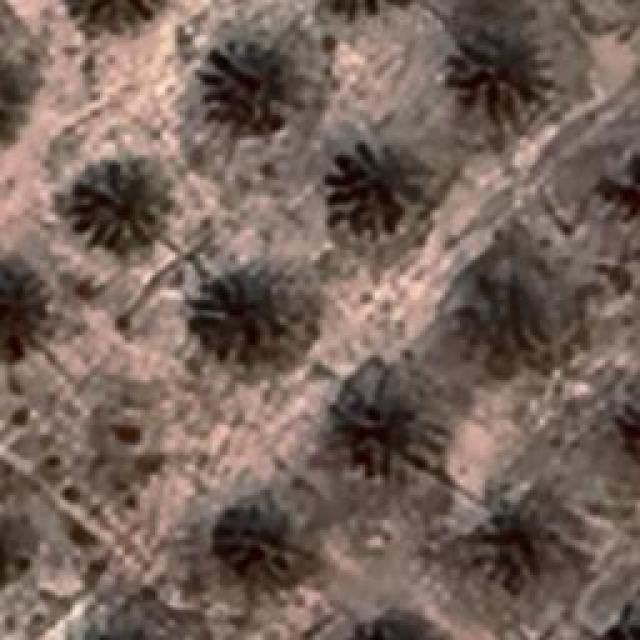PalmTree: (109, 106, 519, 530), (90, 98, 254, 538), (200, 20, 325, 130), (68, 152, 170, 252), (330, 142, 428, 240), (342, 392, 448, 478), (195, 270, 290, 360), (448, 22, 542, 110), (0, 255, 48, 358), (66, 598, 164, 640), (338, 611, 454, 640), (603, 145, 640, 234), (0, 46, 30, 154), (0, 502, 35, 594), (67, 0, 162, 32), (64, 616, 166, 640), (0, 42, 19, 154), (313, 0, 420, 18), (597, 597, 640, 640), (621, 374, 640, 470), (310, 0, 422, 12)
